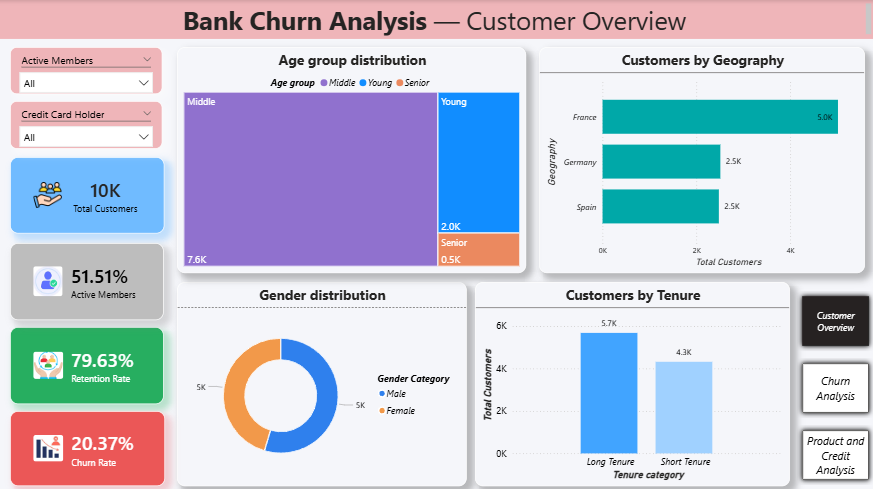

This screenshot's page, from the dashboard's own definition file:
{"tool":"powerbi","page":{"name":"Customer Overview","canvas":[1280,720],"ordinal":0},"visuals":[{"type":"cardVisual","fields":{"Data":["Bank_Churn.Total_Customers"]},"box":[14.6,229.8,225.8,111.6],"z":0},{"type":"cardVisual","fields":{"Data":["Bank_Churn.% of Retention"]},"box":[14.6,478.5,225.4,112.7],"z":1000},{"type":"cardVisual","fields":{"Data":["Bank_Churn.% of Active"]},"box":[14.6,356,224.5,112.9],"z":2000},{"type":"donutChart","title":"Gender distribution ","fields":{"Category":["Gender.GenderCategory"],"Y":["Bank_Churn.Total_Customers"]},"box":[258.8,412.8,423.6,298.8],"z":3000},{"type":"barChart","title":"Customers by Geography","fields":{"Category":["Geography.GeographyLocation"],"Y":["Bank_Churn.Total_Customers"]},"box":[788.6,69.3,477.5,331.2],"z":4000},{"type":"treemap","title":" Age group distribution","fields":{"Group":["Bank_Churn.Customer_age_group"],"Values":["Bank_Churn.Total_Customers"]},"box":[258.8,69.3,511.4,331.2],"z":5000},{"type":"textbox","box":[0,0,1280.5,57.1],"z":6000},{"type":"cardVisual","fields":{"Data":["Bank_Churn.Churn Rate"]},"box":[14.6,601.5,226.8,109.8],"z":7000},{"type":"slicer","fields":{"Values":["ActiveCustomer.ActiveCategory"]},"box":[14.6,69.1,223.2,69.1],"z":8000},{"type":"pageNavigator","box":[1166,425.1,114,286.5],"z":9000},{"type":"columnChart","title":"Customers by Tenure","fields":{"Y":["Bank_Churn.Total Customers"],"Category":["Bank_Churn.Tenure_category"]},"box":[694.7,412.8,460.6,298.8],"z":10000},{"type":"slicer","fields":{"Values":["Credit_card.Category"]},"box":[14.6,147.5,223.2,70.4],"z":11000}]}

Visuals, with their boxes in screenshot pixels (x1, y1, x2, y2), scaled from the page's 1280x720 canvas onto the 873x489 screenshot:
cardVisual - Bank_Churn.Total_Customers: bbox=(10, 156, 164, 232)
cardVisual - Bank_Churn.% of Retention: bbox=(10, 325, 164, 402)
cardVisual - Bank_Churn.% of Active: bbox=(10, 242, 163, 318)
"Gender distribution " donutChart: bbox=(177, 280, 465, 483)
"Customers by Geography" barChart: bbox=(538, 47, 864, 272)
" Age group distribution" treemap: bbox=(177, 47, 525, 272)
textbox: bbox=(0, 0, 872, 39)
cardVisual - Bank_Churn.Churn Rate: bbox=(10, 409, 165, 483)
slicer - ActiveCustomer.ActiveCategory: bbox=(10, 47, 162, 94)
pageNavigator: bbox=(795, 289, 872, 483)
"Customers by Tenure" columnChart: bbox=(474, 280, 788, 483)
slicer - Credit_card.Category: bbox=(10, 100, 162, 148)
